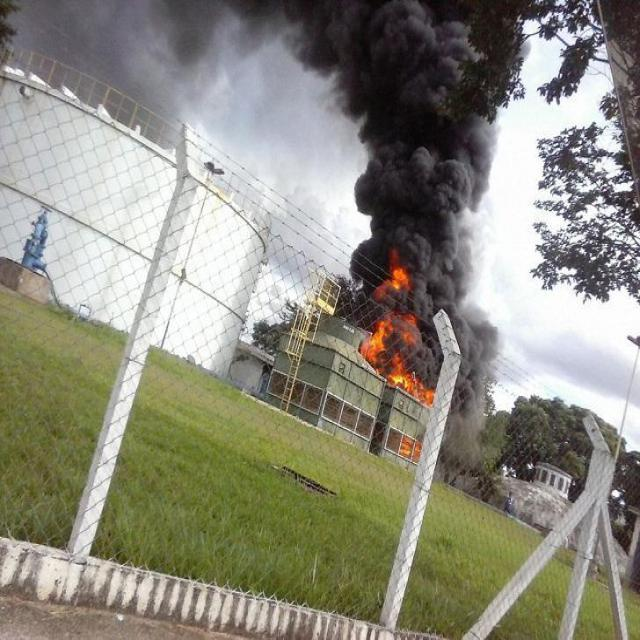Fire: (356, 264, 439, 412)
